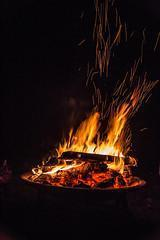fire: (27, 103, 139, 182)
